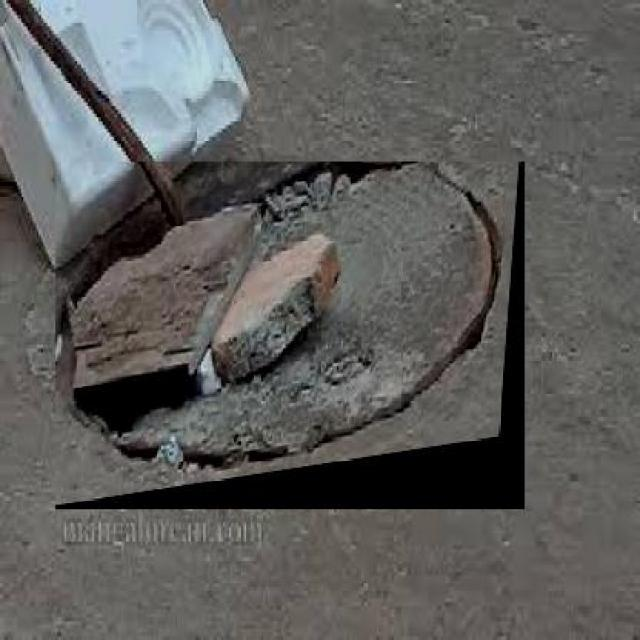Manhole: (56, 162, 524, 509)
